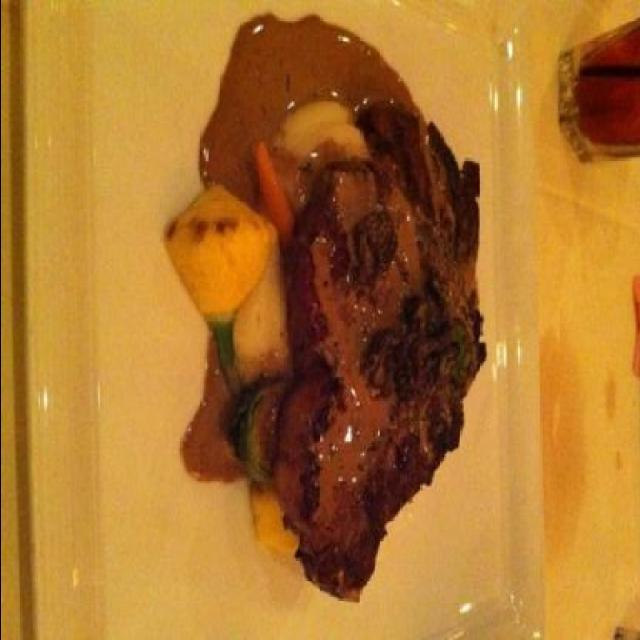Potato: (154, 150, 306, 418)
Steak: (288, 70, 488, 614)
